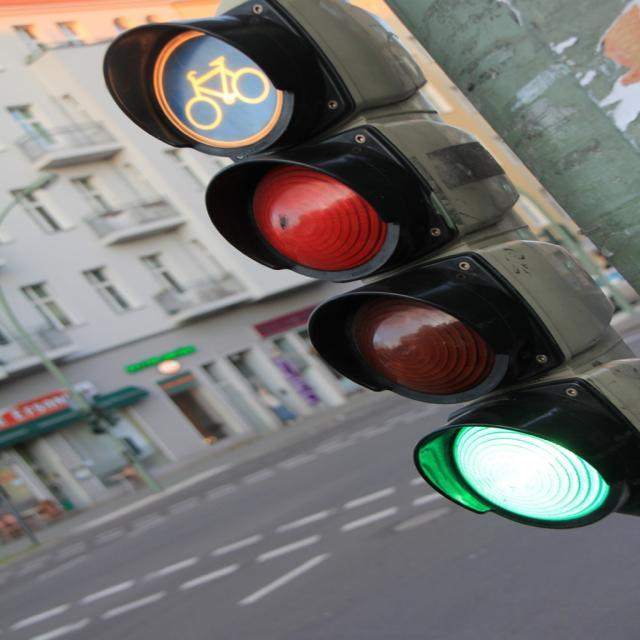traffic light: (104, 0, 640, 531)
